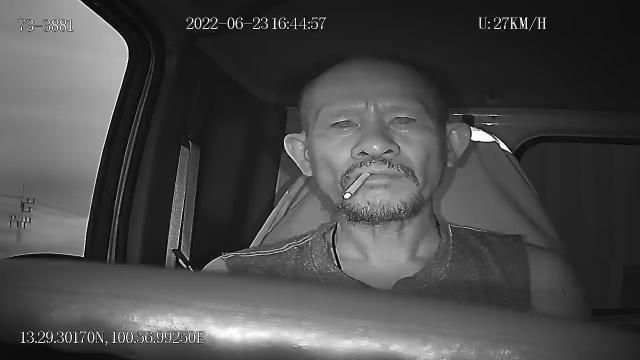SafeDriving: (380, 102, 425, 134), (322, 106, 364, 138)
Smoking: (341, 170, 374, 202)
